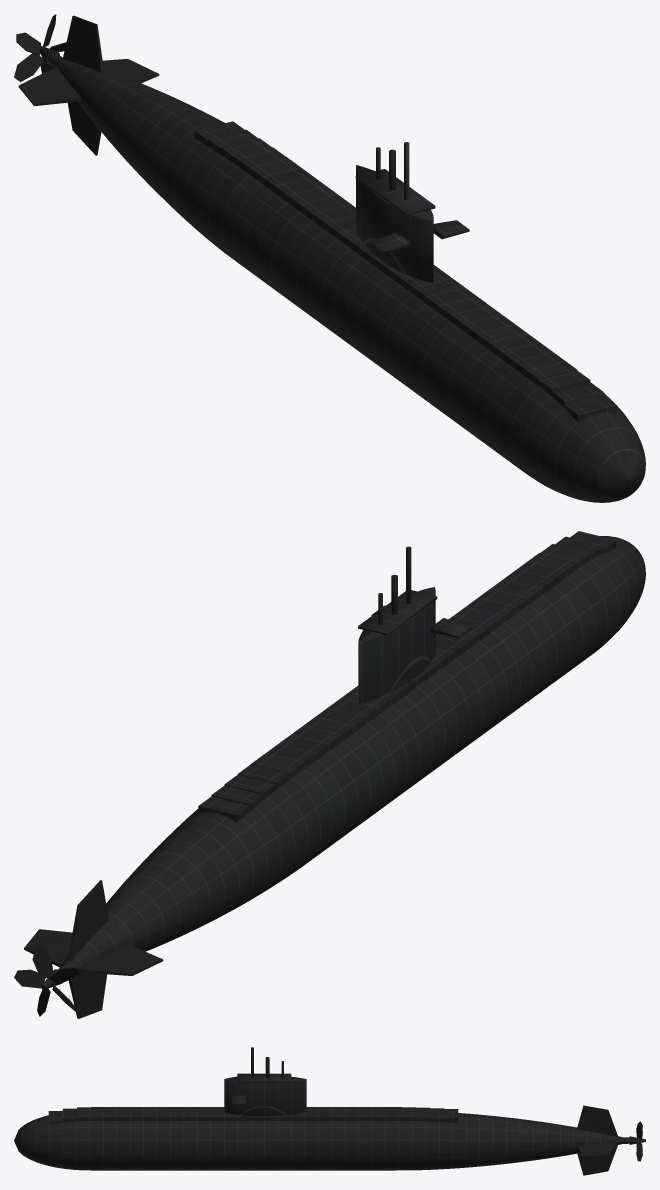
The model's file is port_sub.glb.
The picture shows the model from 3 angles, top to bottom: view 1: azimuth 30°, elevation 25°; view 2: azimuth 150°, elevation 25°; view 3: azimuth 270°, elevation 25°; orthographic projection. The views are drawn at different scales.
Visible parts, largest first — view 1: sub; view 2: sub; view 3: sub.
Part boxes in pixels (x1,y1,x2,y2): sub: [14, 14, 645, 502]; sub: [14, 531, 645, 1018]; sub: [14, 1047, 645, 1175].
Bounding box in the file's own units: 3.56 × 6.51 × 29.16.
Materials: 1 (1 with a texture image).
